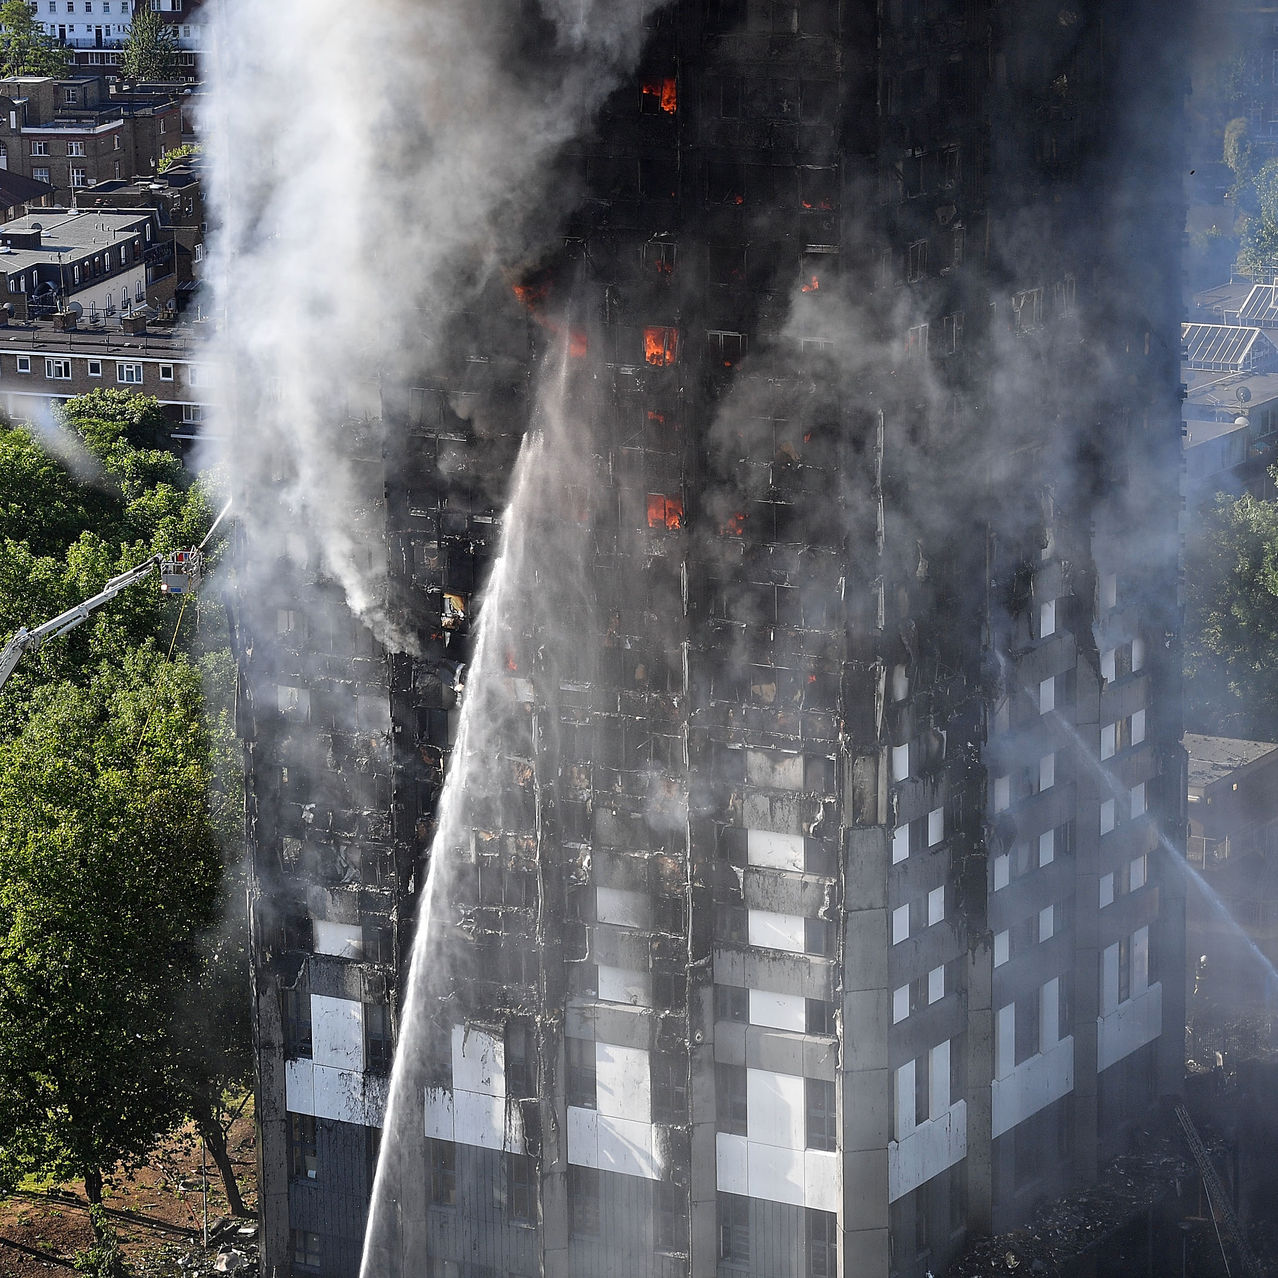smoke: (214, 33, 468, 800), (503, 556, 849, 1011), (911, 308, 1213, 633)
